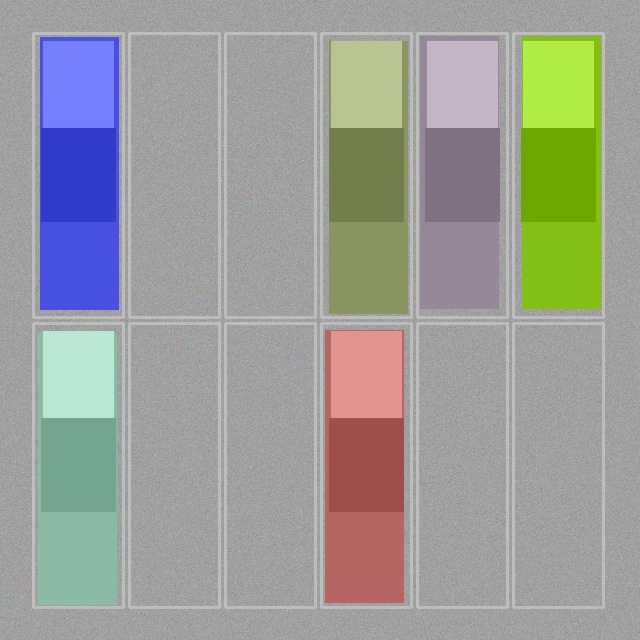space-empty: (131, 35, 217, 315), (227, 35, 313, 315), (131, 325, 217, 605), (227, 325, 313, 605), (419, 325, 505, 605), (515, 325, 601, 605)
space-occupied: (35, 35, 121, 315), (323, 35, 409, 315), (419, 35, 505, 315), (515, 35, 601, 315), (35, 325, 121, 605), (323, 325, 409, 605)
